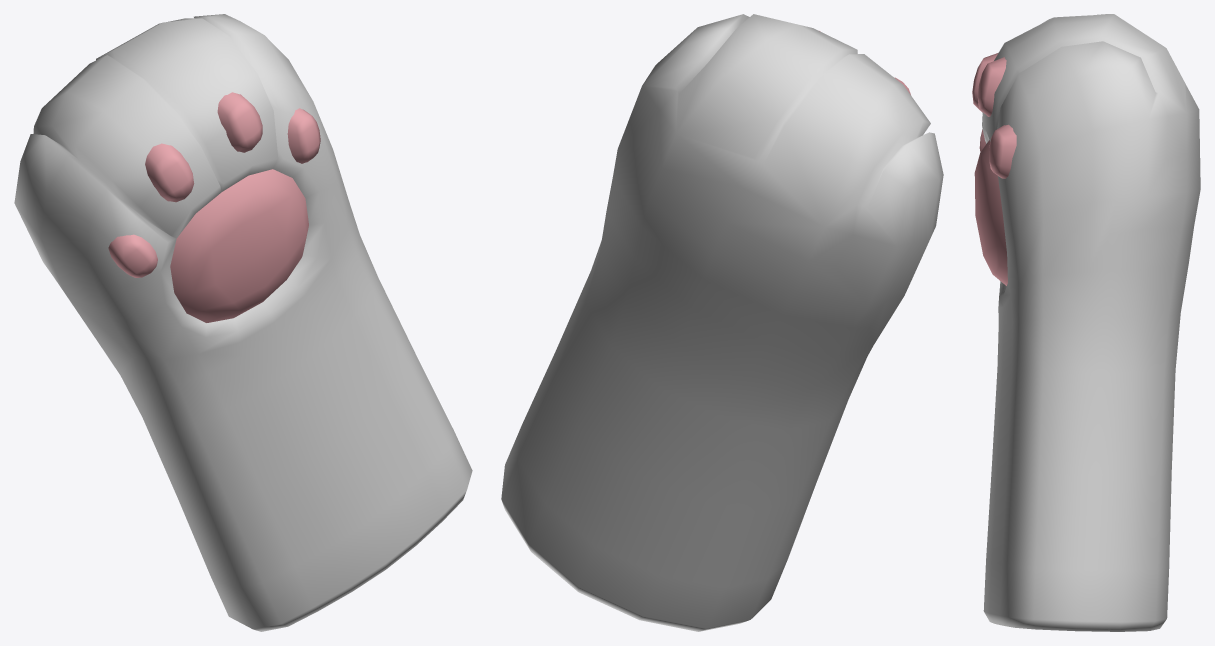
Rendered from item_Cat_Paw.fbx.
The picture shows the model from 3 angles, left to right: view 1: azimuth 30°, elevation 25°; view 2: azimuth 150°, elevation 25°; view 3: azimuth 270°, elevation 25°; orthographic projection. The views are drawn at different scales.
Visible parts, largest first — view 1: Cat_paw; view 2: Cat_paw; view 3: Cat_paw.
Boxes of the visible parts, x1,y1,x2,y2 form: Cat_paw: [14, 14, 472, 631]; Cat_paw: [501, 14, 943, 631]; Cat_paw: [972, 14, 1200, 631].
Bounding box in the file's own units: 55.93 × 76.89 × 27.66.
